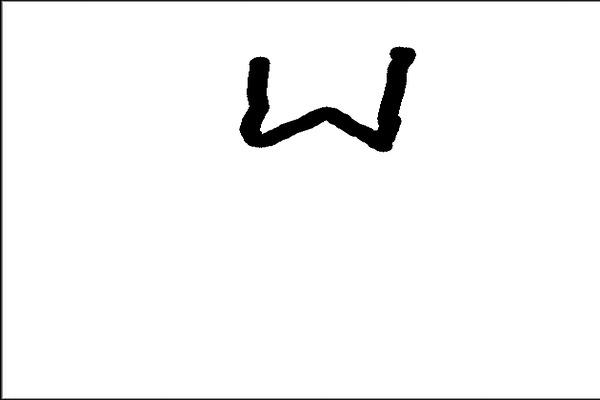w: (231, 32, 431, 174)
